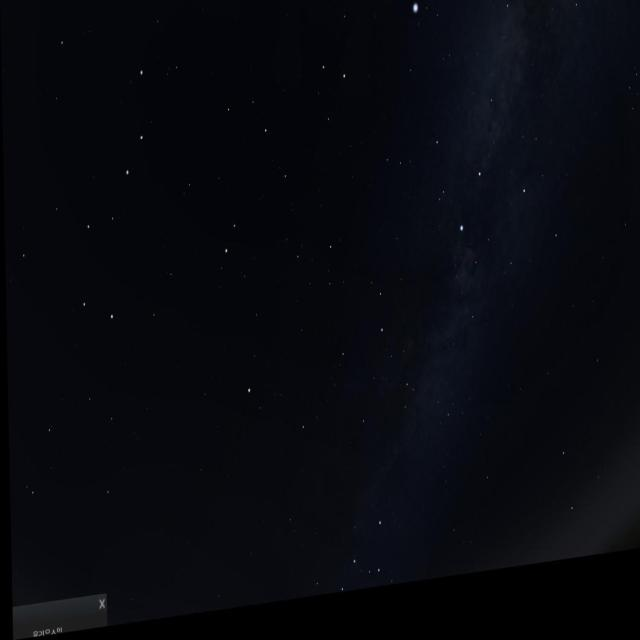cassiopeia: (305, 521, 390, 606)
cygnus: (430, 51, 536, 262)
lyra: (411, 0, 463, 42)
ursa_major: (73, 62, 161, 322)
